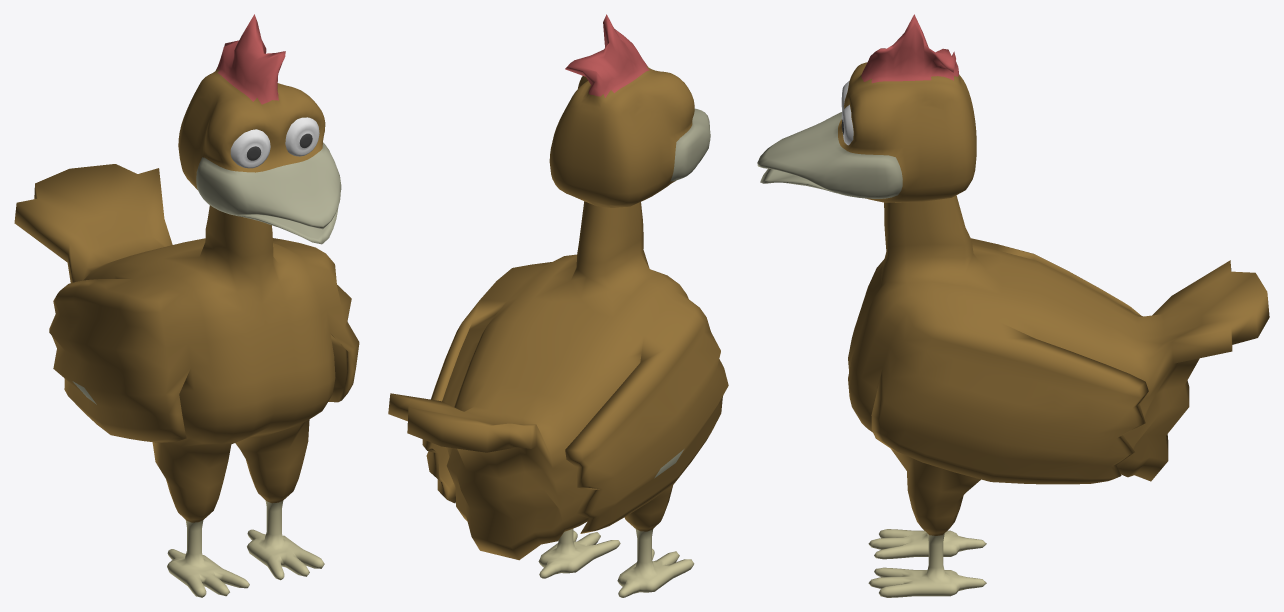
File: kylling2.fbx
3 views of the same model, side by side, from view 1: azimuth 30°, elevation 25°; view 2: azimuth 150°, elevation 25°; view 3: azimuth 270°, elevation 25° (orthographic).
Visible parts, largest first — view 1: body_mesh1, left_eye_mesh, right_eye_mesh; view 2: body_mesh1; view 3: body_mesh1.
Boxes of the visible parts, bbox=[...] form: body_mesh1: bbox=[14, 14, 359, 597]; left_eye_mesh: bbox=[230, 129, 270, 168]; right_eye_mesh: bbox=[285, 117, 319, 156]; body_mesh1: bbox=[388, 14, 728, 597]; body_mesh1: bbox=[757, 14, 1269, 597].
Bounding box in the file's own units: 0.1983 × 0.2393 × 0.1037.
